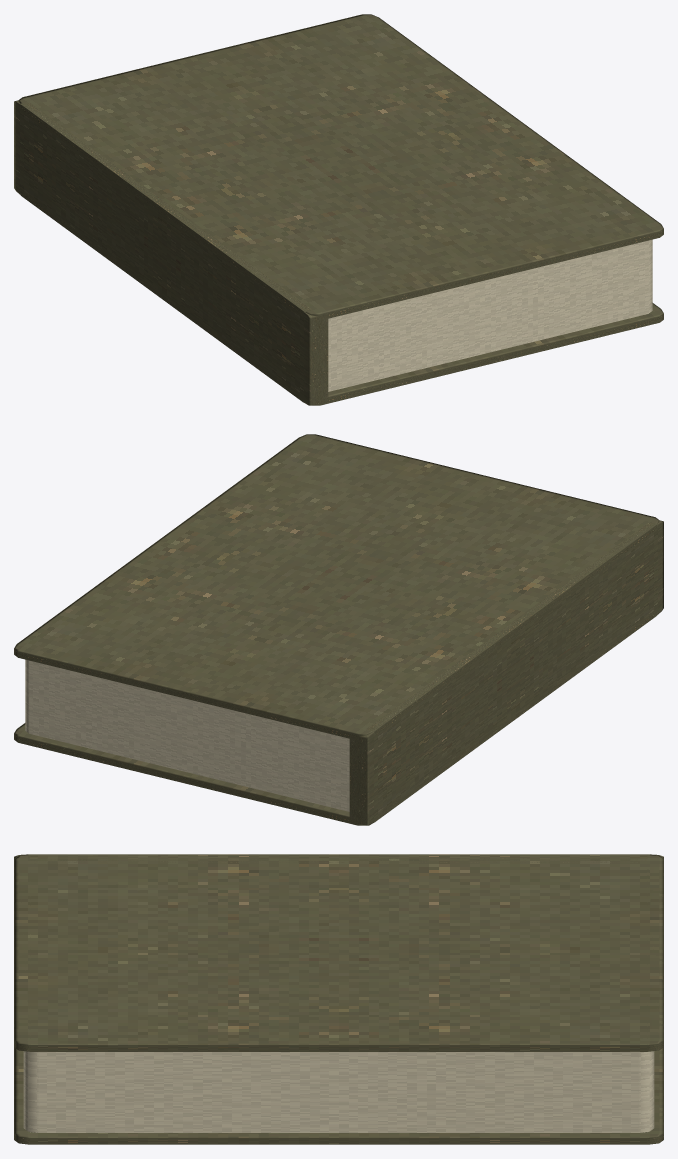
File: book.glb
3 views of the same model, one above another, from view 1: azimuth 30°, elevation 25°; view 2: azimuth 150°, elevation 25°; view 3: azimuth 270°, elevation 25° (orthographic). The views are drawn at different scales.
Parts seen in each view (by area): view 1: cover (×2), spine, pages; view 2: cover (×2), spine, pages; view 3: cover (×2), pages, spine.
Part boxes in pixels (bbox=[...]): cover (×2): bbox=[18, 14, 663, 405]; spine: bbox=[14, 100, 328, 405]; pages: bbox=[328, 239, 652, 391]; cover (×2): bbox=[14, 434, 659, 825]; spine: bbox=[349, 520, 663, 825]; pages: bbox=[25, 659, 349, 811]; cover (×2): bbox=[14, 854, 663, 1144]; pages: bbox=[23, 1051, 654, 1132]; spine: bbox=[14, 854, 663, 863].
Bounding box in the file's own units: 0.16 × 0.039 × 0.23.
2 materials, 2 textured.
